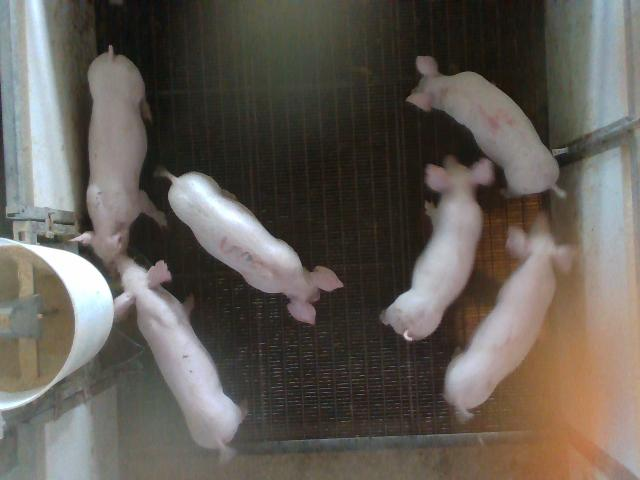pig-3: (159, 170, 342, 323)
pig-4: (408, 57, 565, 197)
